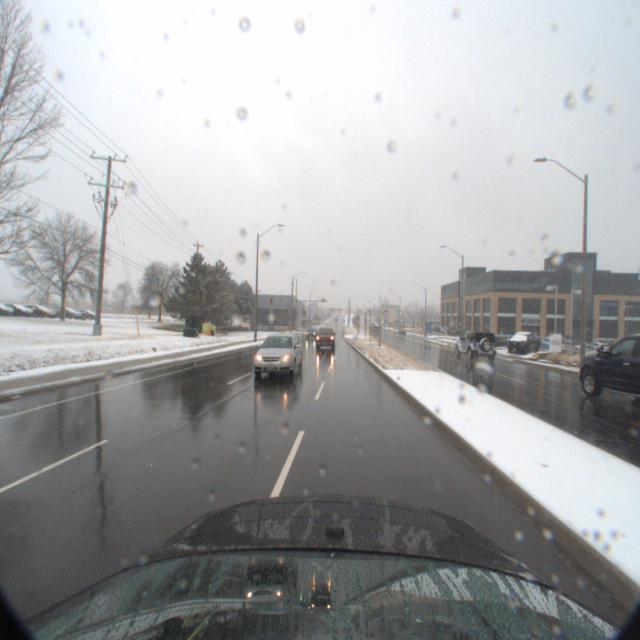Car: (254, 330, 310, 381), (456, 326, 504, 359), (315, 322, 335, 346)
Truck: (506, 327, 548, 351)
